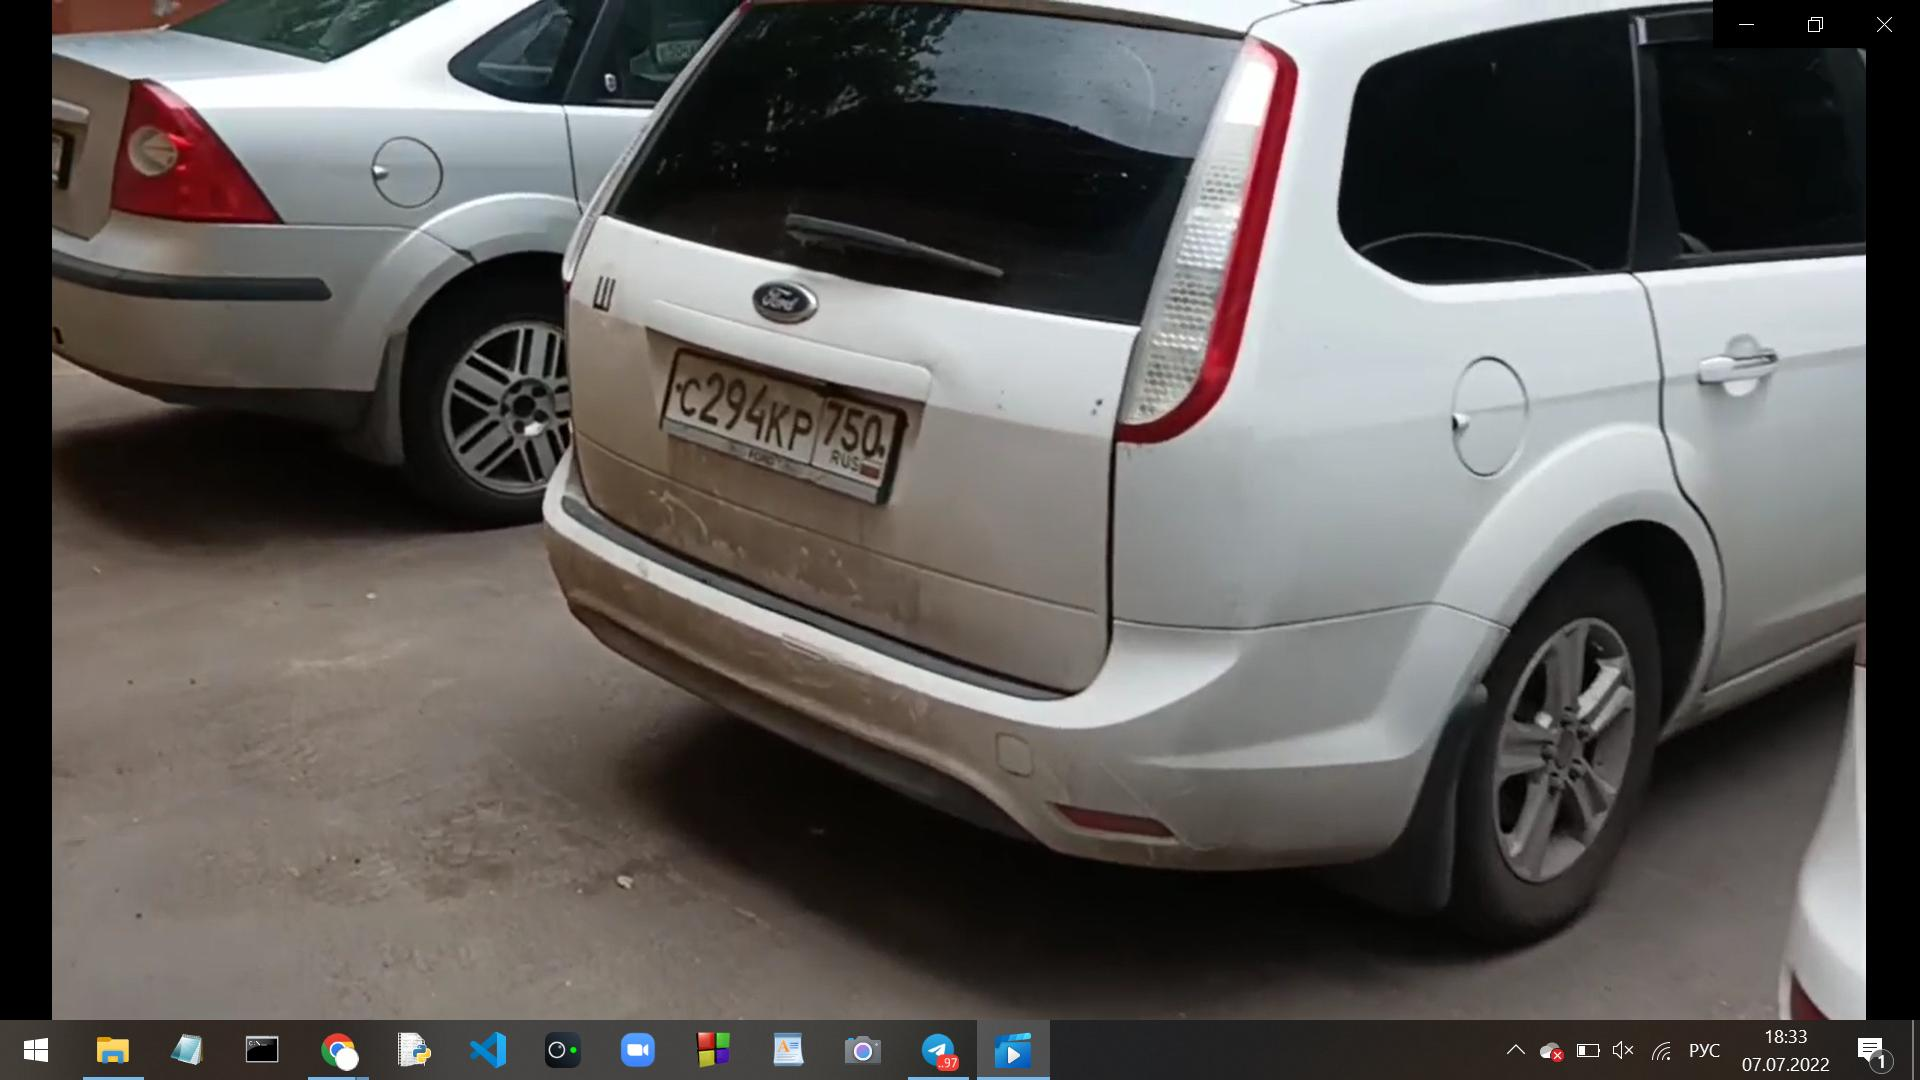plate: (666, 367, 884, 505)
